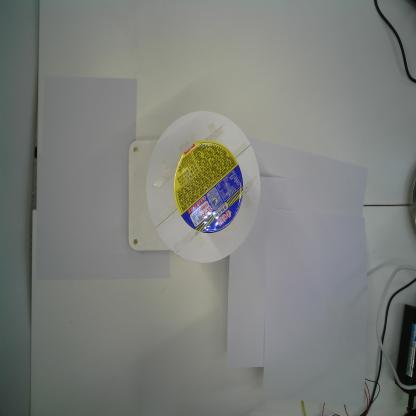Instant Noodles: (173, 139, 244, 235)
